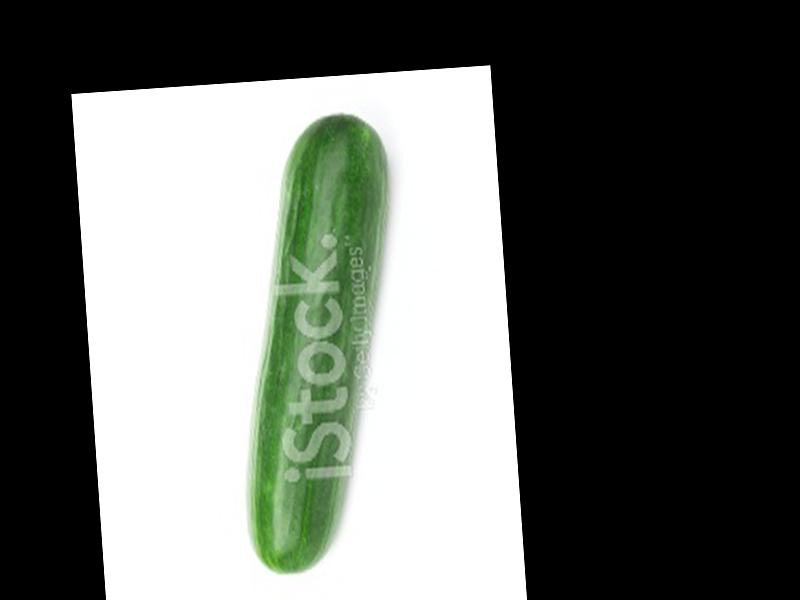Cucumber: (221, 109, 413, 578)
